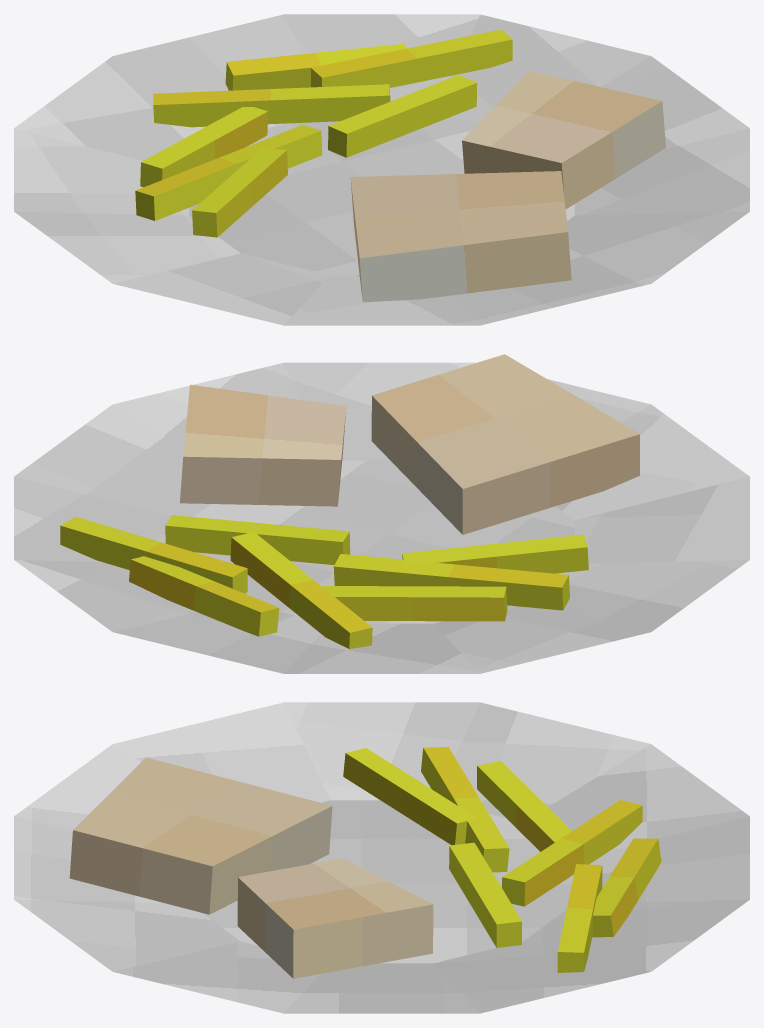
Rendered from fish&chips.fbx.
3 renders of one model, top to bottom at view 1: azimuth 30°, elevation 25°; view 2: azimuth 150°, elevation 25°; view 3: azimuth 270°, elevation 25°, orthographic.
Visible parts, largest first — view 1: plate, cuboid, cuboid_1, cuboid_4, cuboid_8, cuboid_5, cuboid_3, cuboid_6, cuboid_2, cuboid_7; view 2: plate, cuboid, cuboid_1, cuboid_3, cuboid_4, cuboid_6, cuboid_5, cuboid_7, cuboid_8, cuboid_2; view 3: plate, cuboid, cuboid_1, cuboid_4, cuboid_2, cuboid_3, cuboid_5, cuboid_6, cuboid_7, cuboid_8.
Boxes of the visible parts, x1=… form: plate: x1=14, y1=14, x2=749, y2=325; cuboid: x1=350, y1=171, x2=571, y2=302; cuboid_1: x1=462, y1=71, x2=665, y2=209; cuboid_4: x1=153, y1=84, x2=390, y2=127; cuboid_8: x1=311, y1=29, x2=512, y2=87; cuboid_5: x1=328, y1=75, x2=477, y2=157; cuboid_3: x1=135, y1=125, x2=322, y2=220; cuboid_6: x1=140, y1=107, x2=267, y2=187; cuboid_2: x1=192, y1=147, x2=287, y2=237; cuboid_7: x1=225, y1=43, x2=406, y2=90; plate: x1=14, y1=362, x2=749, y2=673; cuboid: x1=371, y1=354, x2=639, y2=534; cuboid_1: x1=180, y1=384, x2=346, y2=506; cuboid_3: x1=333, y1=554, x2=569, y2=610; cuboid_4: x1=230, y1=532, x2=372, y2=648; cuboid_6: x1=323, y1=586, x2=507, y2=621; cuboid_5: x1=165, y1=515, x2=350, y2=565; cuboid_7: x1=129, y1=556, x2=279, y2=636; cuboid_8: x1=60, y1=516, x2=247, y2=593; cuboid_2: x1=402, y1=534, x2=588, y2=573; plate: x1=14, y1=702, x2=749, y2=1013; cuboid: x1=69, y1=757, x2=332, y2=914; cuboid_1: x1=237, y1=858, x2=433, y2=978; cuboid_4: x1=502, y1=800, x2=642, y2=906; cuboid_2: x1=343, y1=748, x2=477, y2=845; cuboid_3: x1=421, y1=746, x2=509, y2=872; cuboid_5: x1=449, y1=842, x2=521, y2=947; cuboid_6: x1=477, y1=761, x2=571, y2=851; cuboid_7: x1=592, y1=838, x2=661, y2=937; cuboid_8: x1=557, y1=864, x2=602, y2=972.
Size of the model in its own units: 43.75 by 6.77 by 43.75.
Materials: 3 (3 with a texture image).
